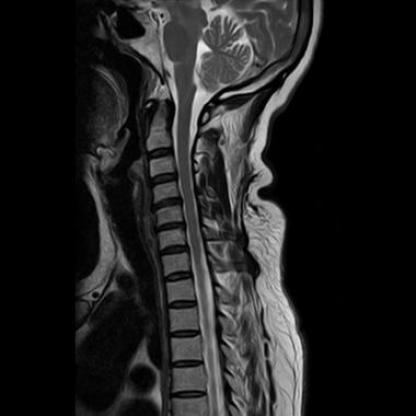Disc Bulgerotation: (156, 220, 186, 234)
Disc Protrusionrotation: (159, 243, 189, 258), (155, 196, 183, 212)
